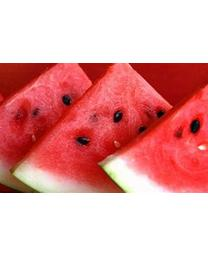watermelon: (0, 64, 207, 192)
